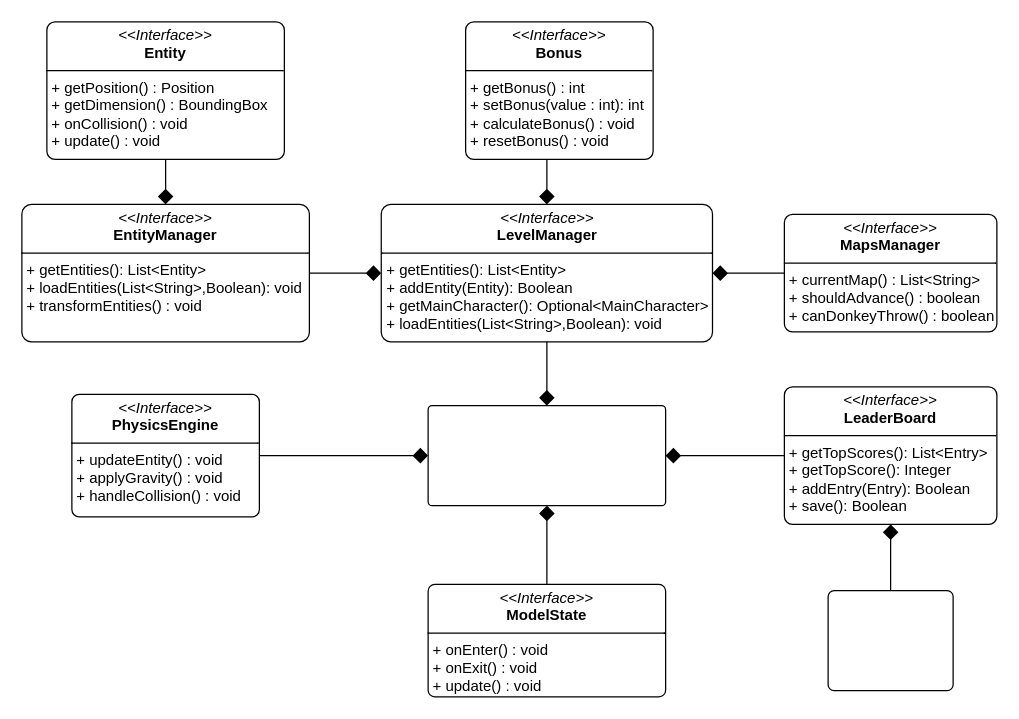
Some shapes in this 1019 by 719 pixel diagram are drawn without their labels. Each missing label, with the centre of its shape:
"<<Interface>> Entry + name() : String + score() : int" goes at point 890,640.
"<<Interface>> Model + getEntities() : Entity + update() : void" goes at point 546,455.
